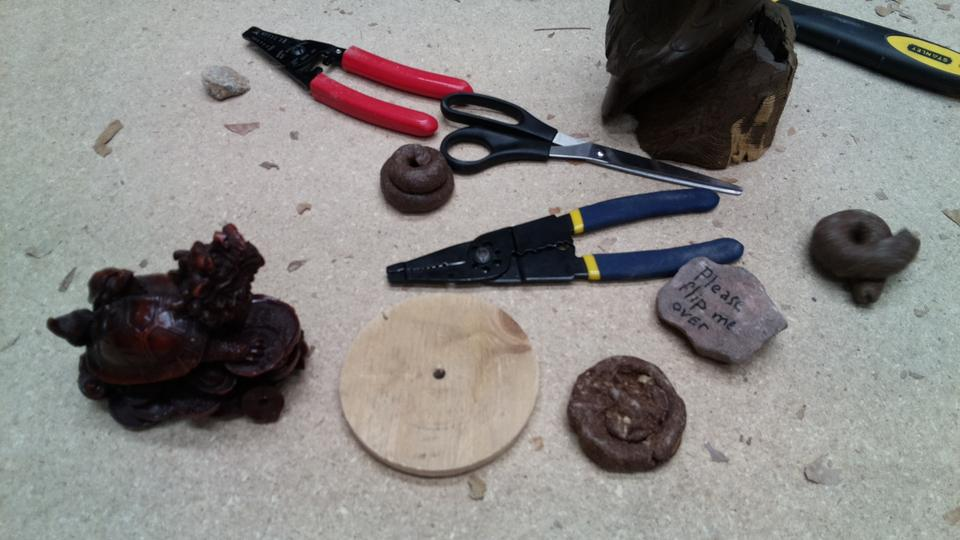poop: (562, 352, 691, 479), (807, 204, 922, 309), (378, 141, 455, 218)
